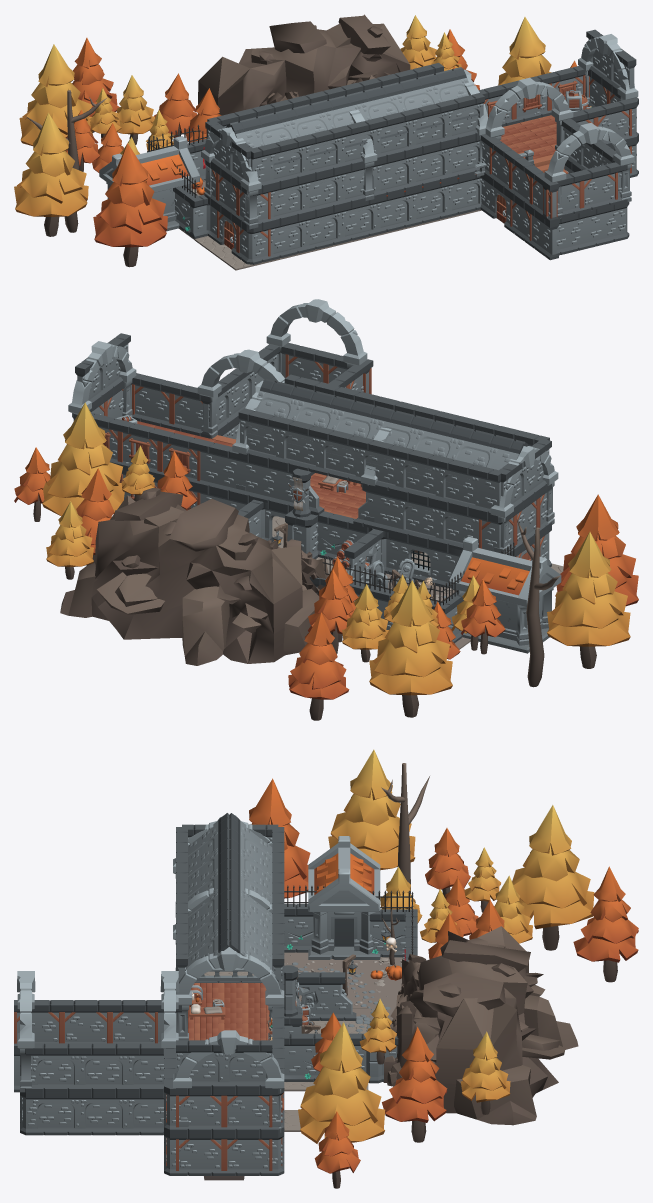
Rendered from map2.glb.
3 views of the same model, one above another, from view 1: azimuth 30°, elevation 25°; view 2: azimuth 150°, elevation 25°; view 3: azimuth 270°, elevation 25° (orthographic). The views are drawn at different scales.
Visible parts, largest first — view 1: rubble_large__4_, tree_pine_yellow_large__2_, tree_pine_orange_large, tree_pine_yellow_large__1_, crypt, arch__5_, arch__4_, tree_pine_yellow_large__4_, arch__3_, tree_pine_orange_medium, wall_scaffold__11_, wall_arched__27_ (+78 smaller); view 2: rubble_large__4_, tree_pine_yellow_large__2_, tree_pine_yellow_large__1_, crypt, tree_pine_yellow_large__4_, tree_pine_orange_medium, tree_pine_orange_large, arch__5_, tree_pine_yellow_large__3_, tree_dead_large, arch__4_, tree_pine_yellow_large (+56 smaller); view 3: rubble_large__4_, crypt, tree_pine_yellow_large__1_, tree_pine_yellow_large__4_, tree_pine_yellow_large__2_, tree_pine_orange_medium, tree_pine_orange_medium__1_, arch__1_, tree_pine_orange_large, wall_arched__16_, wall_arched__15_, tree_pine_yellow_large__3_ (+55 smaller).
Boxes of the visible parts, x1,y1,x2,y2 form: rubble_large__4_: [198, 14, 410, 115]; tree_pine_yellow_large__2_: [14, 113, 88, 236]; tree_pine_orange_large: [93, 143, 167, 267]; tree_pine_yellow_large__1_: [19, 44, 92, 145]; crypt: [99, 136, 199, 231]; arch__5_: [544, 122, 634, 218]; arch__4_: [485, 77, 573, 150]; tree_pine_yellow_large__4_: [498, 17, 551, 85]; arch__3_: [201, 127, 261, 229]; tree_pine_orange_medium: [72, 37, 119, 132]; wall_scaffold__11_: [578, 162, 618, 212]; wall_arched__27_: [409, 101, 449, 150]; rubble_large__4_: [60, 488, 330, 665]; tree_pine_yellow_large__2_: [547, 532, 630, 668]; tree_pine_yellow_large__1_: [369, 580, 452, 717]; crypt: [448, 536, 561, 653]; tree_pine_yellow_large__4_: [42, 402, 124, 516]; tree_pine_orange_medium: [288, 612, 349, 720]; tree_pine_orange_large: [555, 494, 638, 606]; arch__5_: [266, 299, 367, 373]; tree_pine_yellow_large__3_: [46, 501, 93, 579]; tree_dead_large: [517, 520, 560, 687]; arch__4_: [197, 349, 284, 438]; tree_pine_yellow_large: [342, 584, 388, 662]; rubble_large__4_: [387, 926, 578, 1125]; crypt: [308, 836, 380, 959]; tree_pine_yellow_large__1_: [512, 805, 594, 950]; tree_pine_yellow_large__4_: [298, 1022, 385, 1143]; tree_pine_yellow_large__2_: [328, 749, 415, 870]; tree_pine_orange_medium: [573, 866, 638, 982]; tree_pine_orange_medium__1_: [382, 1027, 447, 1142]; arch__1_: [176, 947, 284, 1040]; tree_pine_orange_large: [249, 778, 310, 898]; wall_arched__16_: [80, 1043, 127, 1091]; wall_arched__15_: [32, 1043, 79, 1091]; tree_pine_yellow_large__3_: [460, 1031, 510, 1114].
Size of the model in its own units: 63.25 by 15.2 by 52.04.
83 materials, 83 textured.
